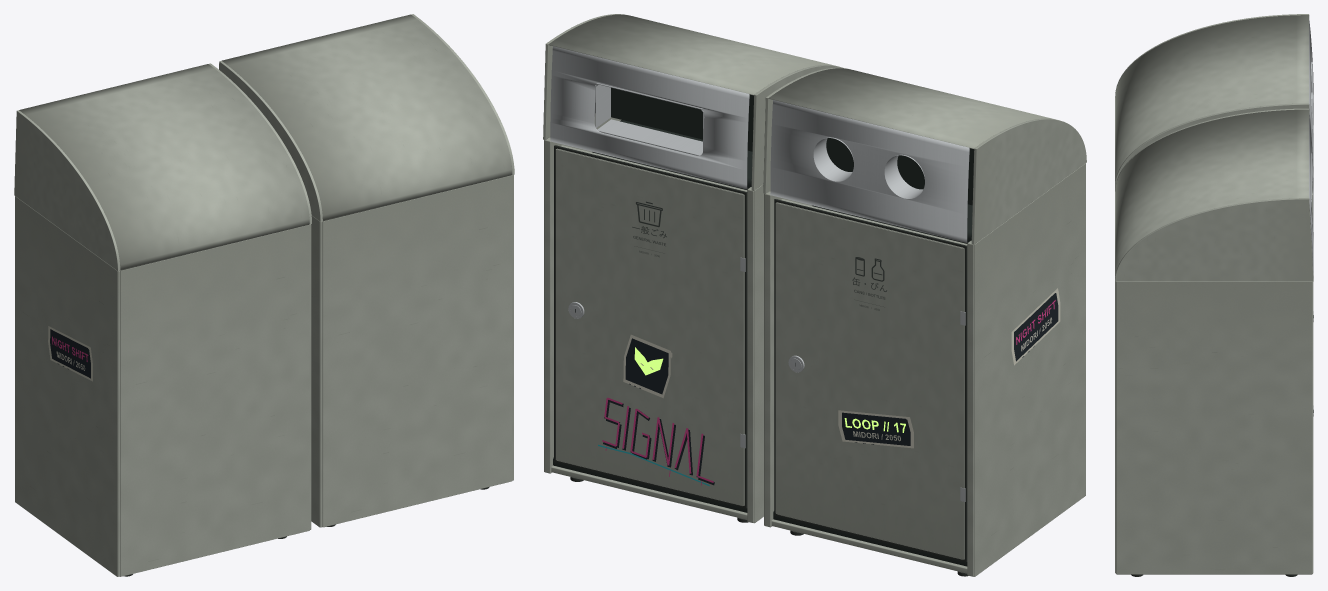
Rendered from recycling_cyberpunk.glb.
3 views of the same model, side by side, from view 1: azimuth 30°, elevation 25°; view 2: azimuth 150°, elevation 25°; view 3: azimuth 270°, elevation 25° (orthographic). The views are drawn at different scales.
Parts seen in each view (by area): view 1: Weathered_powdercoated_galvanized_steel_geometry, Cream_ASA_hood_edge_geometry, StreetArt / Sticker charcoal print; view 2: Weathered_powdercoated_galvanized_steel_geometry, Brushed_stainless_inlet_and_hardware_geometry, Cream_ASA_hood_edge_geometry, Deep_internal_shadow_geometry, EPDM_feet_and_seals_geometry, StreetArt / Sticker charcoal print, StreetArt / Sticker weathered paper border, StreetArt / Original magenta spray paint, StreetArt / Glow ink lime phosphorescent approximation; view 3: Weathered_powdercoated_galvanized_steel_geometry, Cream_ASA_hood_edge_geometry, Brushed_stainless_inlet_and_hardware_geometry.
Part boxes in pixels (<box>): Weathered_powdercoated_galvanized_steel_geometry: <box>15,14,513,576</box>; Cream_ASA_hood_edge_geometry: <box>14,14,514,271</box>; StreetArt / Sticker charcoal print: <box>50,329,90,378</box>; Weathered_powdercoated_galvanized_steel_geometry: <box>544,14,1085,576</box>; Brushed_stainless_inlet_and_hardware_geometry: <box>550,46,969,501</box>; Cream_ASA_hood_edge_geometry: <box>543,14,1086,244</box>; Deep_internal_shadow_geometry: <box>553,87,974,566</box>; EPDM_feet_and_seals_geometry: <box>554,145,968,576</box>; StreetArt / Sticker charcoal print: <box>603,293,1058,485</box>; StreetArt / Sticker weathered paper border: <box>623,288,1060,448</box>; StreetArt / Original magenta spray paint: <box>602,300,1055,485</box>; StreetArt / Glow ink lime phosphorescent approximation: <box>634,347,905,432</box>; Weathered_powdercoated_galvanized_steel_geometry: <box>1115,15,1313,574</box>; Cream_ASA_hood_edge_geometry: <box>1115,14,1313,281</box>; Brushed_stainless_inlet_and_hardware_geometry: <box>1309,17,1313,416</box>.
Size of the model in its own units: 0.961 by 0.93 by 0.4354.
12 materials, 5 textured.
